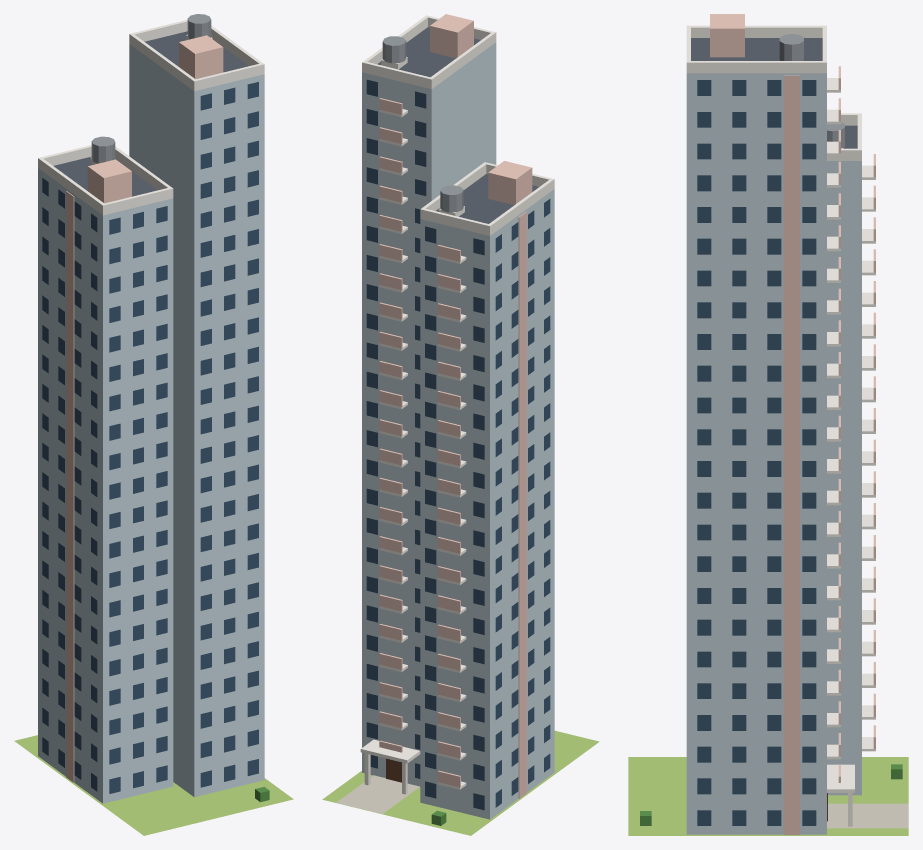
The picture shows the model from 3 angles, left to right: view 1: azimuth 30°, elevation 25°; view 2: azimuth 150°, elevation 25°; view 3: azimuth 270°, elevation 25°; orthographic projection. The views are drawn at different scales.
Parts seen in each view (by area): view 1: tower (×2), parapet (×8), lawn, panel, lift_room (×2), roof (×2), water_tank (×2); view 2: tower (×2), panel, parapet (×5), lawn, lift_room (×2), roof (×2), path, water_tank (×2), canopy; view 3: tower (×2), panel, lawn, parapet (×2), path, roof, lift_room, canopy, water_tank.
Boxes of the visible parts, left/top/right/bottom form: tower (×2): left=38, top=44, right=264, bottom=803; parapet (×8): left=38, top=19, right=264, bottom=215; lawn: left=14, top=735, right=293, bottom=835; panel: left=66, top=191, right=74, bottom=782; lift_room (×2): left=87, top=35, right=223, bottom=203; roof (×2): left=53, top=31, right=248, bottom=196; water_tank (×2): left=91, top=14, right=211, bottom=163; tower (×2): left=362, top=42, right=554, bottom=819; panel: left=518, top=211, right=526, bottom=798; parapet (×5): left=362, top=33, right=552, bottom=235; lawn: left=322, top=730, right=599, bottom=835; lift_room (×2): left=430, top=14, right=532, bottom=204; roof (×2): left=377, top=27, right=538, bottom=223; path: left=336, top=775, right=419, bottom=813; water_tank (×2): left=382, top=36, right=463, bottom=212; canopy: left=360, top=739, right=420, bottom=763; tower (×2): left=686, top=73, right=861, bottom=834; panel: left=783, top=75, right=799, bottom=834; lawn: left=628, top=757, right=908, bottom=835; parapet (×2): left=691, top=25, right=822, bottom=73; path: left=827, top=803, right=908, bottom=828; roof: left=691, top=38, right=822, bottom=60; lift_room: left=710, top=14, right=744, bottom=57; canopy: left=827, top=764, right=854, bottom=792; water_tank: left=779, top=34, right=803, bottom=60.
Bounding box in the file's own units: 16 × 74.7 × 24.
